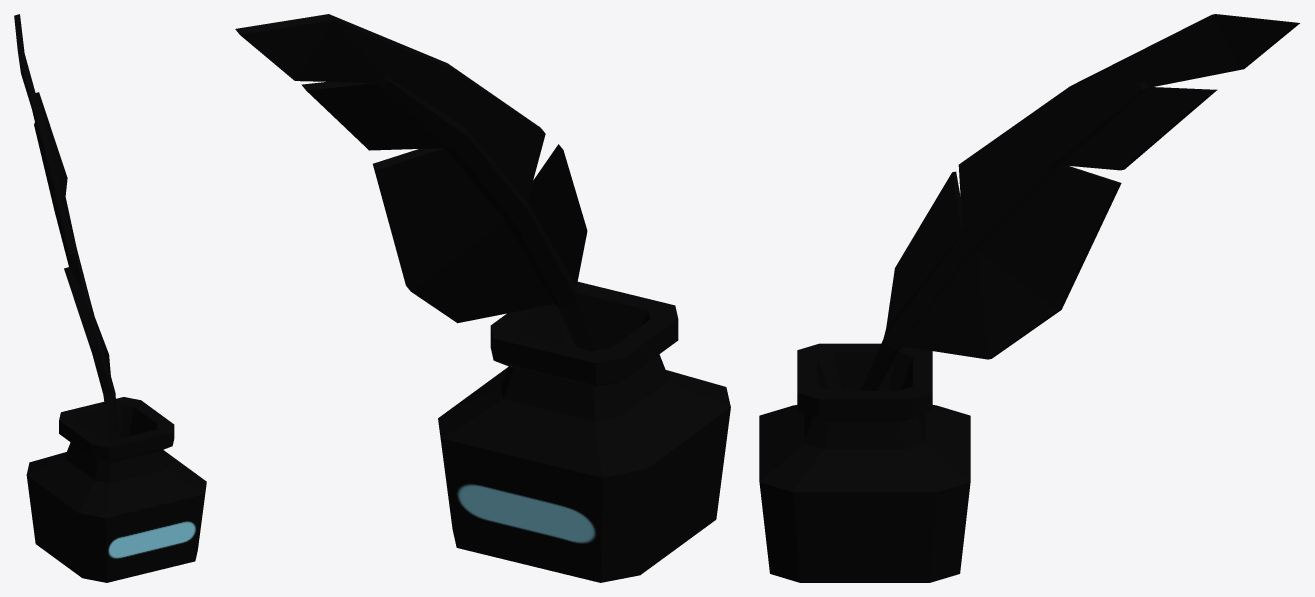
Rendered from Pen_Area.fbx.
3 renders of one model, left to right at view 1: azimuth 30°, elevation 25°; view 2: azimuth 150°, elevation 25°; view 3: azimuth 270°, elevation 25°, orthographic. The views are drawn at different scales.
Parts seen in each view (by area): view 1: SM_Item_Inkwell_01; view 2: SM_Item_Inkwell_01; view 3: SM_Item_Inkwell_01.
Boxes of the visible parts, left/top/right/bottom form: SM_Item_Inkwell_01: left=14, top=14, right=206, bottom=582; SM_Item_Inkwell_01: left=235, top=14, right=730, bottom=582; SM_Item_Inkwell_01: left=759, top=14, right=1299, bottom=582.
Bounding box in the file's own units: 0.0998 × 0.3008 × 0.2634.
1 material, 1 textured.
